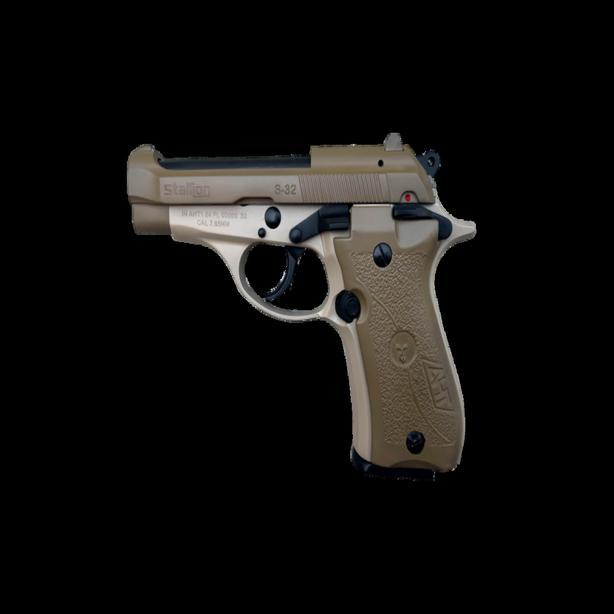Firearm: (126, 128, 495, 495)
